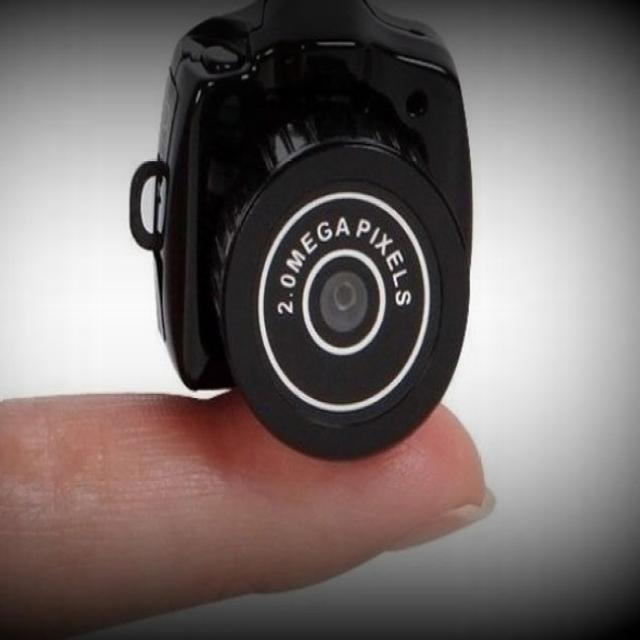hidden camera: (317, 268, 372, 337)
